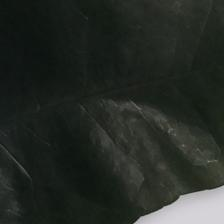healthy: (5, 2, 211, 185)
